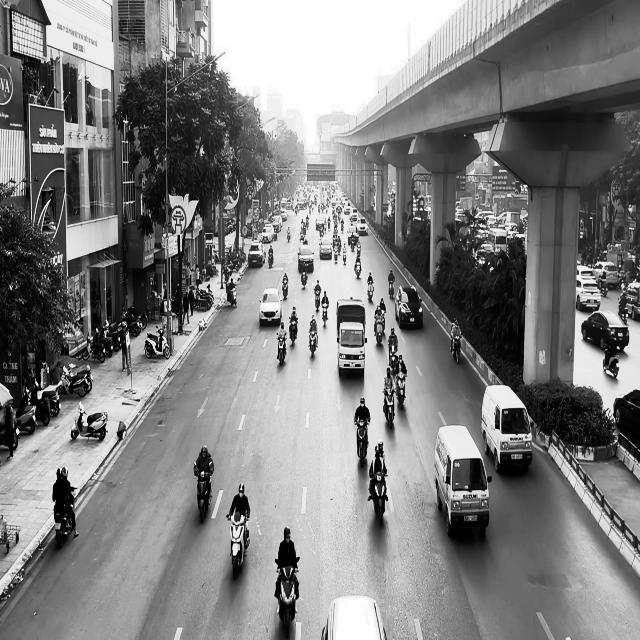car: (321, 595, 387, 639), (581, 310, 629, 352), (613, 388, 640, 438), (395, 286, 423, 329), (259, 287, 282, 326), (297, 245, 313, 272), (319, 237, 332, 260)
motorbike: (274, 556, 299, 628), (226, 512, 250, 580), (70, 402, 108, 441), (54, 487, 78, 548), (193, 462, 213, 523), (368, 470, 388, 527), (144, 324, 170, 359), (354, 418, 369, 467), (382, 383, 395, 428), (395, 370, 407, 410), (450, 332, 462, 364), (276, 333, 287, 365), (308, 327, 318, 357), (288, 317, 298, 346), (374, 317, 384, 346), (226, 282, 237, 308), (300, 262, 308, 288), (321, 301, 328, 327), (354, 254, 361, 279), (367, 278, 374, 302), (314, 287, 320, 310), (282, 278, 288, 299), (268, 249, 274, 268)
